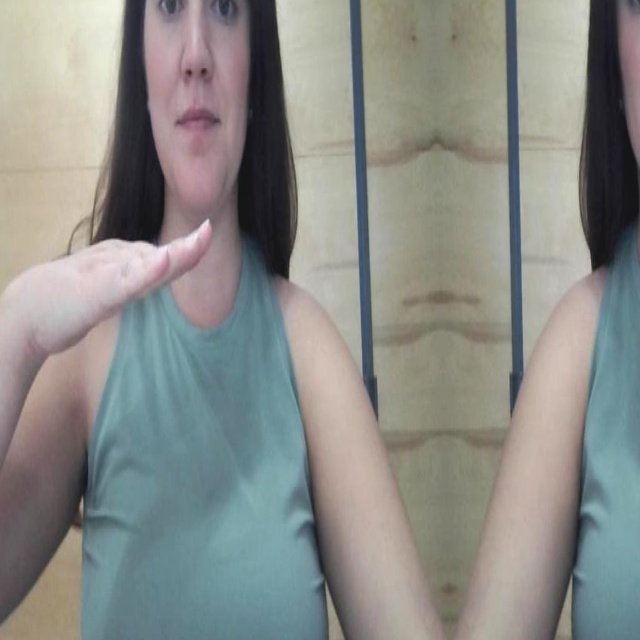Paper: (0, 155, 230, 372)
